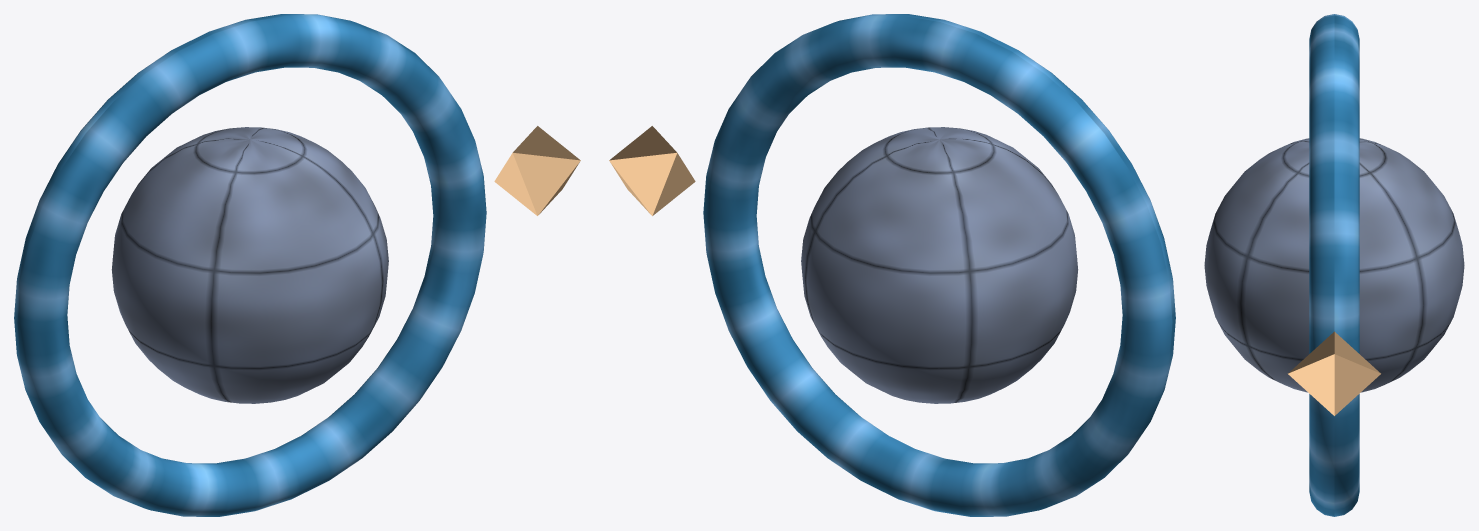
Rendered from singularity-core.glb.
The picture shows the model from 3 angles, left to right: view 1: azimuth 30°, elevation 25°; view 2: azimuth 150°, elevation 25°; view 3: azimuth 270°, elevation 25°; orthographic projection. The views are drawn at different scales.
Parts seen in each view (by area): view 1: ring, core, shard; view 2: ring, core, shard; view 3: core, ring, shard.
Boxes of the visible parts, box(x1,y1,x2,y2) form: ring: box(14, 14, 486, 516); core: box(111, 127, 388, 403); shard: box(494, 126, 580, 215); ring: box(703, 14, 1175, 516); core: box(801, 127, 1078, 403); shard: box(609, 126, 695, 215); core: box(1204, 138, 1464, 392); ring: box(1309, 14, 1359, 516); shard: box(1288, 331, 1380, 415).
Bounding box in the file's own units: 7.26 × 6 × 3.1.
Materials: 3 (2 with a texture image).
